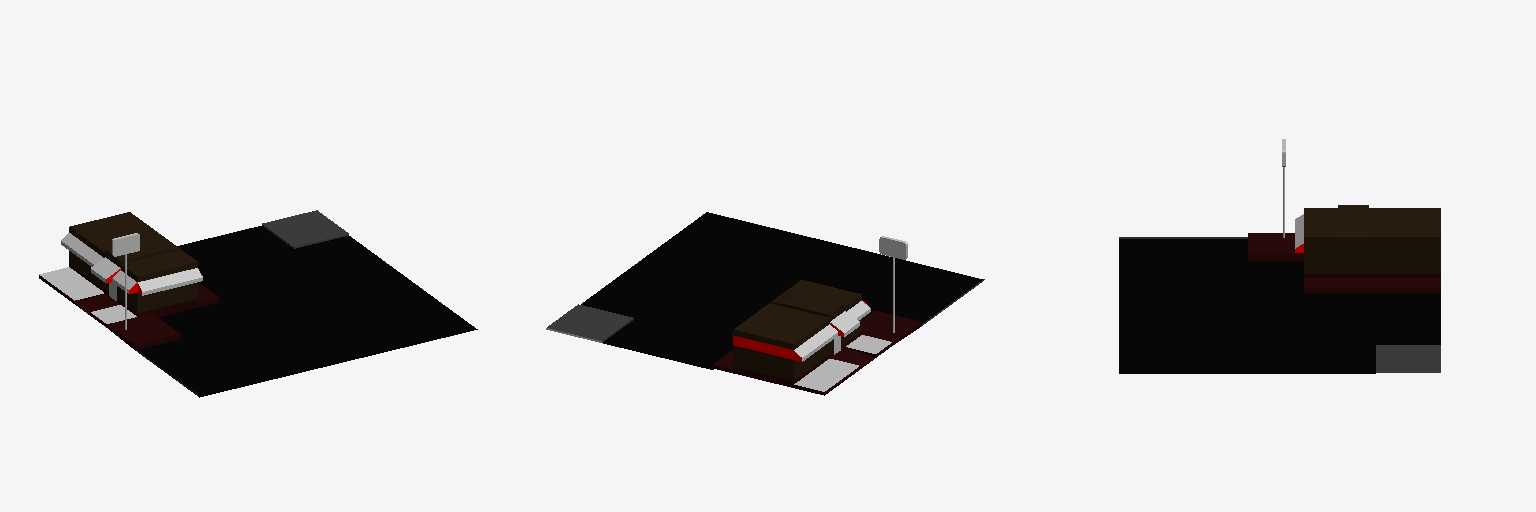
The model's file is 03_kfc.obj.
3 views of the same model, side by side, from view 1: azimuth 30°, elevation 25°; view 2: azimuth 150°, elevation 25°; view 3: azimuth 270°, elevation 25° (orthographic).
Parts seen in each view (by area): view 1: 03_kfc_Grid.001; view 2: 03_kfc_Grid.001; view 3: 03_kfc_Grid.001.
Boxes of the visible parts, <box> form: 03_kfc_Grid.001: <box>39,210,477,397</box>; 03_kfc_Grid.001: <box>546,212,984,395</box>; 03_kfc_Grid.001: <box>1119,139,1440,373</box>.
Bounding box in the file's own units: 16.26 × 5.42 × 16.